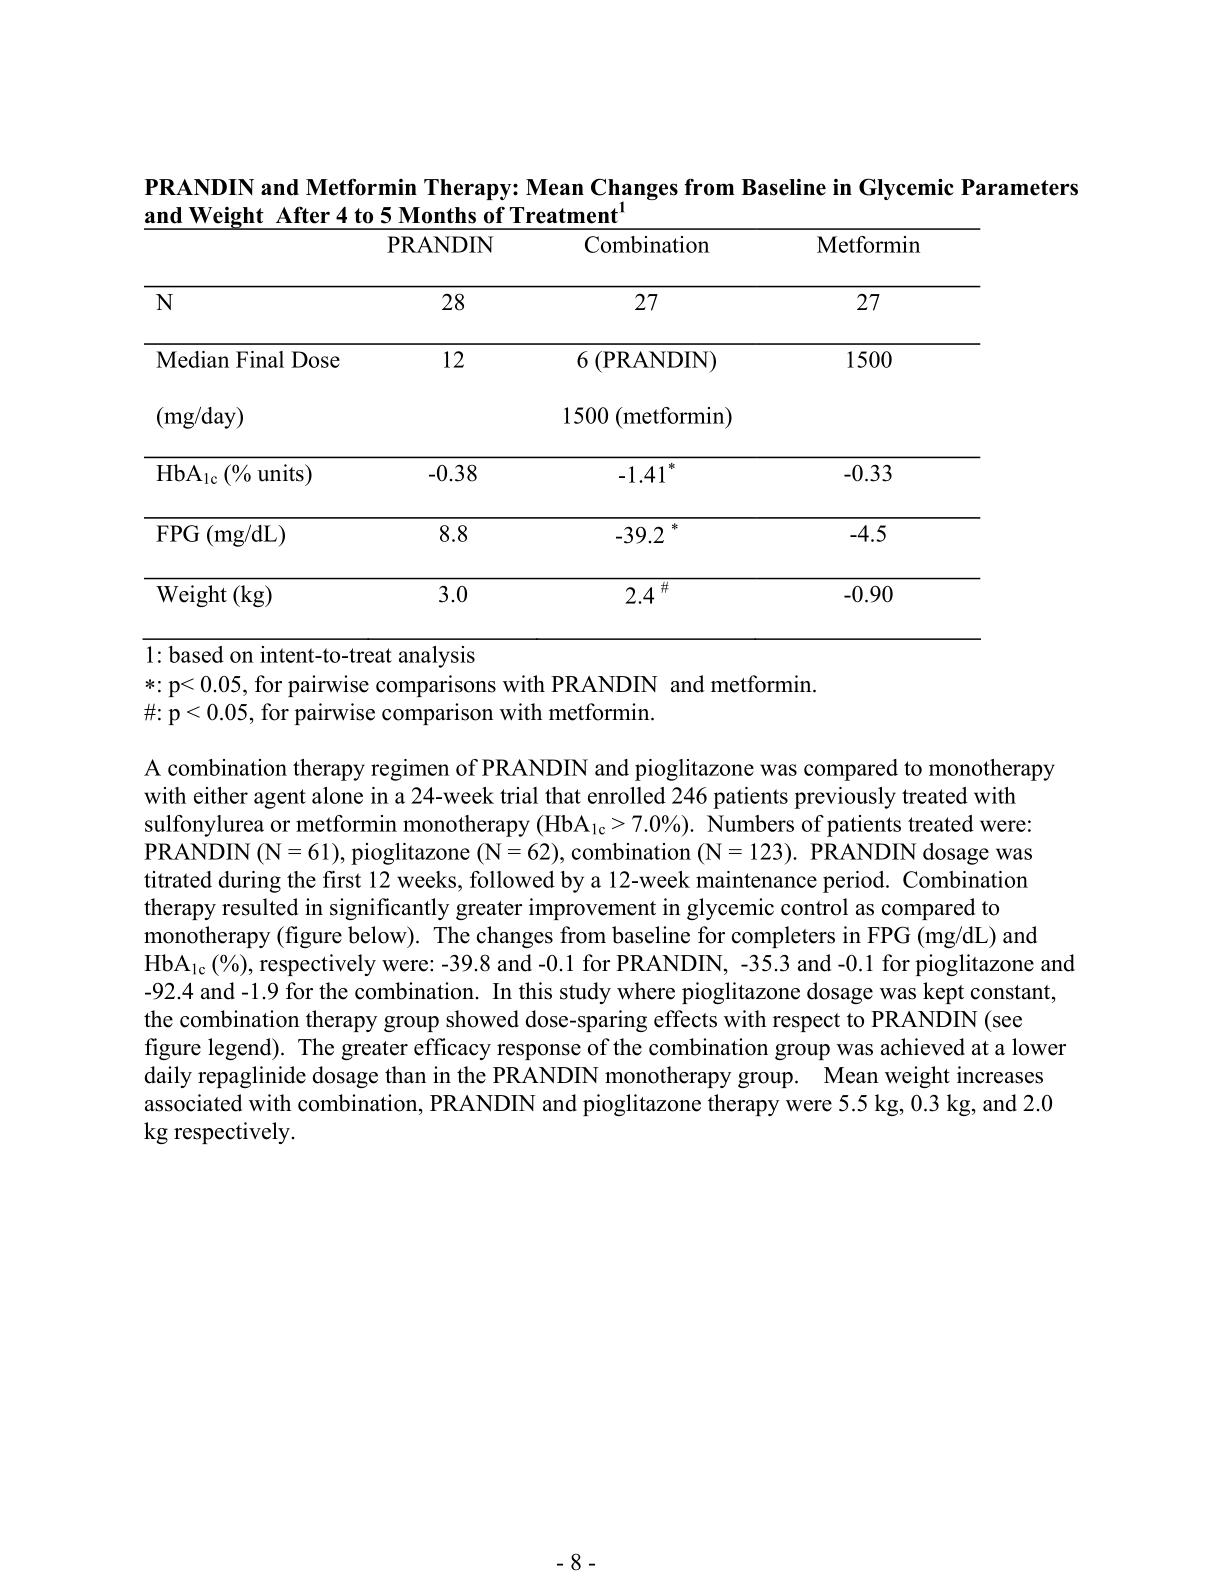partial_lined: (141, 228, 984, 642)
